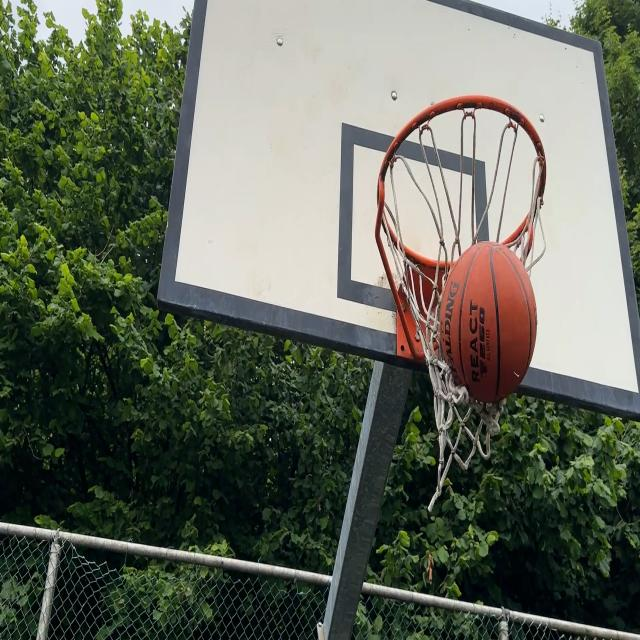Basketball: (441, 244, 538, 407)
